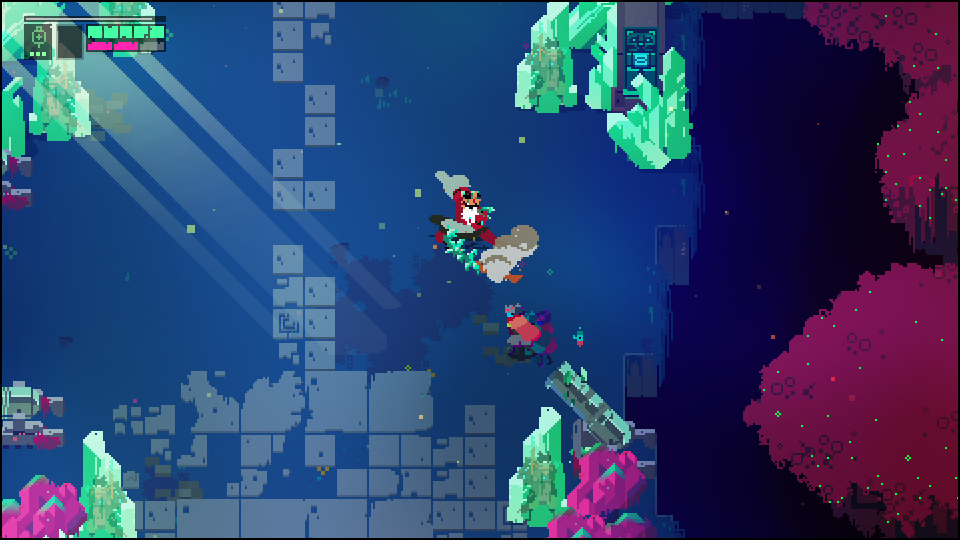hanged_man: (425, 166, 514, 280)
player: (502, 303, 542, 355)
